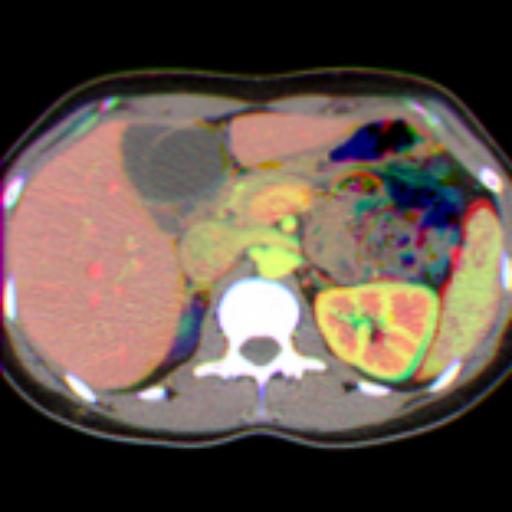Cyst: (122, 125, 228, 205)
